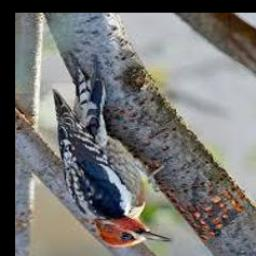Woodpecker: (53, 53, 173, 248)
